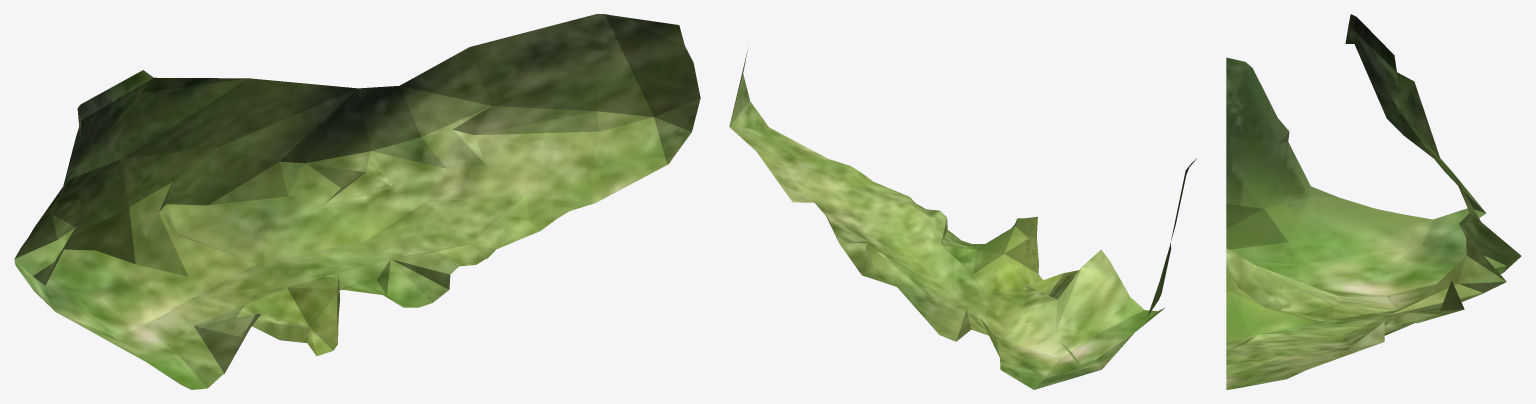
3 views of the same model, side by side, from view 1: azimuth 30°, elevation 25°; view 2: azimuth 150°, elevation 25°; view 3: azimuth 270°, elevation 25° (orthographic). The views are drawn at different scales.
Size of the model in its own units: 28.56 by 12.37 by 13.71.
Materials: 1 (1 with a texture image).
